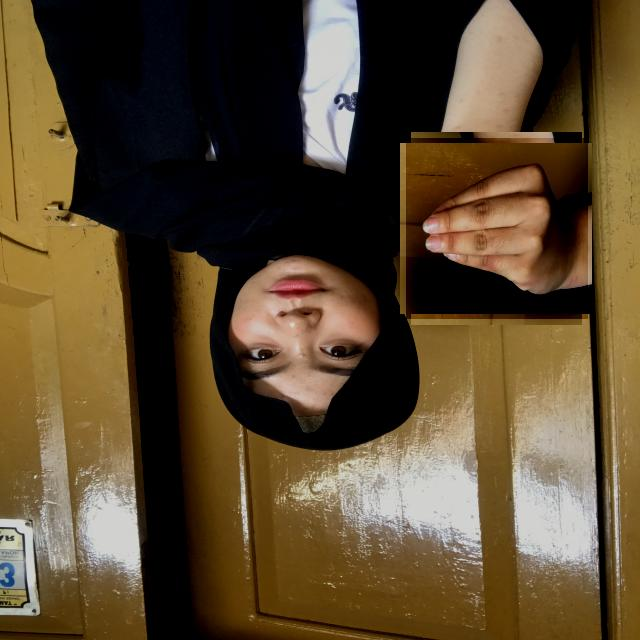kapan: (406, 138, 588, 319)
